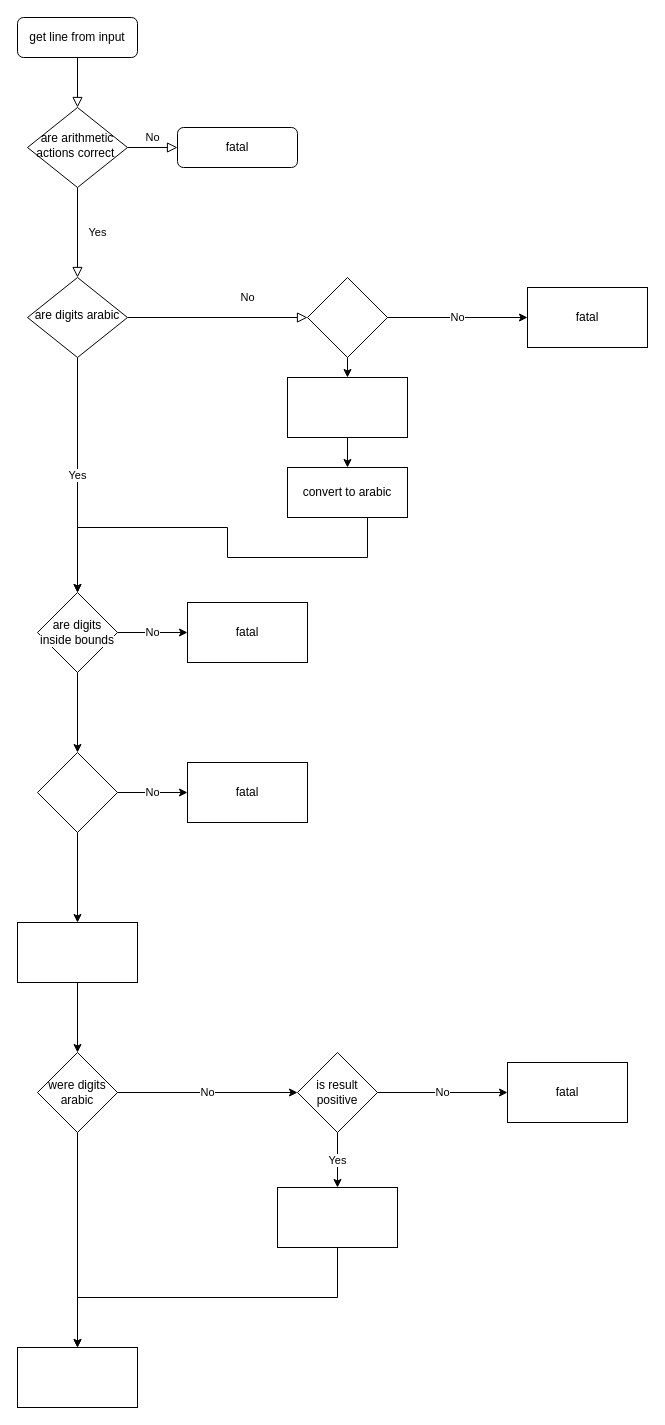
This 665x1425 diagram has some shape labels left out. Each missing label, with the centre of its shape:
"are digits roman" belongs at (347,317).
"are numbers ints" belongs at (77,792).
"calculate result (int div in case of division)" belongs at (77,952).
"convert to roman" belongs at (337,1217).
"output result" belongs at (77,1377).
"save that info" belongs at (347,407).
